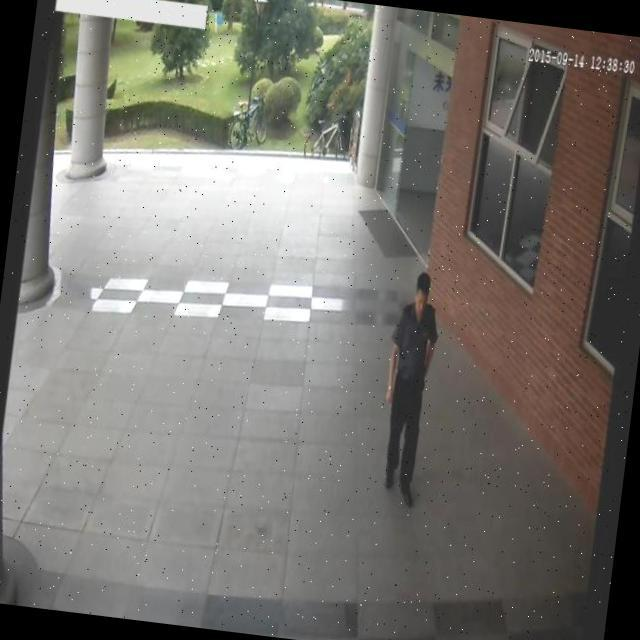person: (358, 250, 455, 524)
